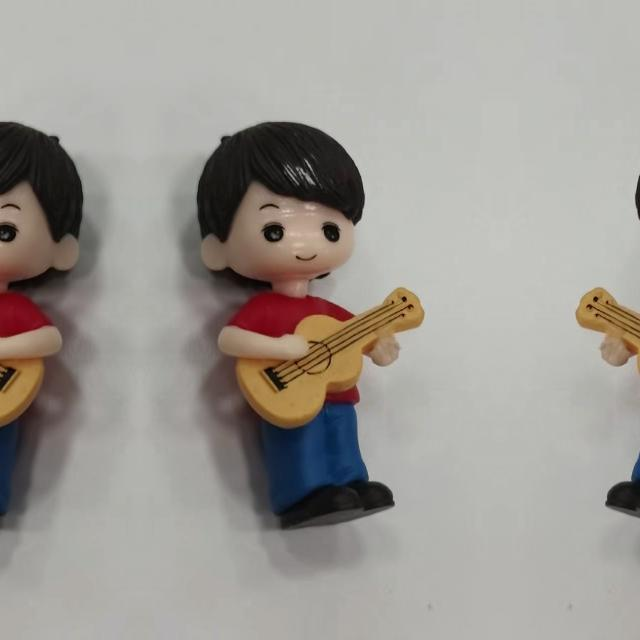man cloth: (228, 295, 376, 405), (0, 295, 51, 405), (624, 295, 640, 405)
man head: (195, 120, 372, 294), (0, 120, 85, 293), (628, 120, 640, 293)
trousers: (256, 401, 396, 531), (604, 401, 640, 531), (0, 401, 23, 531)
